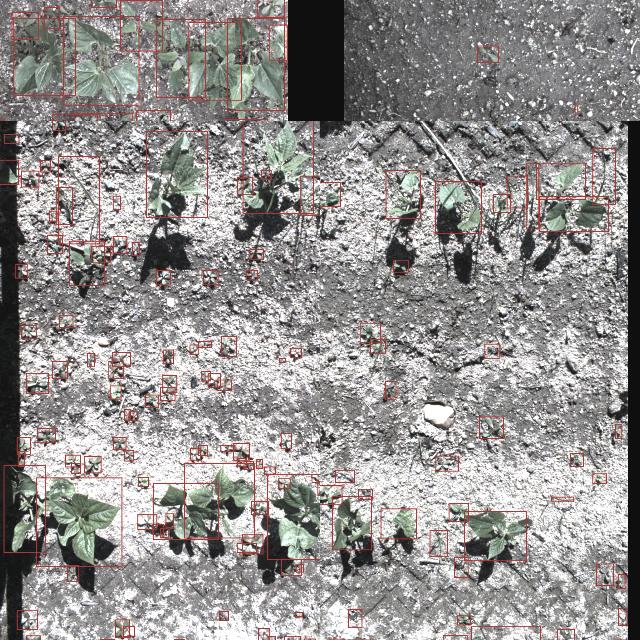crop: (36, 478, 122, 566), (63, 16, 139, 106), (242, 121, 313, 213), (146, 131, 208, 217), (185, 462, 255, 538), (228, 18, 284, 110), (13, 18, 75, 96), (268, 474, 320, 560), (188, 22, 242, 100), (153, 483, 219, 539), (3, 466, 45, 552), (464, 511, 526, 561), (434, 181, 482, 233), (540, 196, 608, 232), (332, 496, 371, 550), (536, 164, 586, 198), (386, 170, 420, 218), (380, 509, 416, 539), (268, 24, 288, 60), (320, 183, 339, 207), (0, 160, 17, 184), (52, 121, 65, 130)
weed: (156, 20, 206, 98), (59, 156, 100, 244), (120, 1, 162, 51), (68, 241, 104, 285), (592, 148, 616, 204), (471, 627, 540, 640), (299, 175, 320, 214), (526, 164, 538, 228), (12, 12, 38, 40), (507, 176, 527, 208), (56, 188, 72, 225), (479, 417, 503, 439), (430, 530, 448, 556), (257, 0, 284, 17), (26, 373, 48, 393), (242, 534, 264, 554), (17, 610, 37, 630), (360, 323, 380, 343), (320, 485, 341, 504), (596, 564, 614, 586), (136, 110, 170, 121), (282, 558, 302, 576), (449, 504, 469, 522), (44, 8, 60, 28), (478, 46, 498, 62), (90, 246, 110, 262), (436, 456, 458, 470), (494, 194, 511, 212), (20, 171, 38, 187), (112, 352, 130, 368), (37, 428, 55, 444), (233, 442, 249, 460), (138, 514, 156, 530), (222, 336, 236, 356), (454, 557, 468, 577), (108, 362, 124, 378), (85, 456, 101, 472), (48, 235, 62, 253), (115, 620, 129, 638), (113, 236, 127, 254), (348, 609, 362, 627), (238, 178, 252, 195), (16, 438, 30, 454), (156, 270, 170, 286), (52, 362, 66, 378), (163, 376, 177, 392), (484, 344, 500, 358), (370, 339, 386, 353), (384, 381, 396, 399), (336, 470, 354, 482), (204, 270, 218, 284), (570, 453, 584, 467), (64, 455, 80, 467), (20, 326, 36, 338), (252, 502, 268, 514), (557, 629, 574, 640), (618, 608, 628, 626), (91, 0, 116, 7), (59, 316, 73, 328), (146, 394, 158, 408), (112, 437, 126, 449), (160, 388, 174, 400), (208, 373, 220, 387), (67, 566, 79, 580), (394, 260, 408, 272), (216, 380, 232, 390), (237, 544, 257, 552), (16, 264, 27, 278), (258, 628, 270, 640), (4, 134, 18, 144), (250, 249, 264, 259), (163, 350, 173, 364), (281, 434, 291, 448), (593, 473, 607, 483), (358, 490, 372, 500), (110, 386, 120, 398), (40, 160, 50, 172), (246, 270, 258, 280), (190, 448, 200, 460), (278, 478, 290, 488), (152, 524, 164, 534), (122, 626, 134, 636), (443, 635, 467, 640), (86, 353, 94, 367), (166, 514, 174, 528), (618, 574, 626, 588), (124, 451, 134, 462), (290, 348, 302, 357), (132, 242, 140, 255), (261, 170, 271, 180), (198, 445, 208, 455), (264, 467, 276, 475), (458, 616, 470, 624), (139, 478, 149, 487), (552, 497, 574, 501), (18, 452, 24, 466), (114, 196, 120, 210), (198, 341, 212, 347), (221, 445, 235, 451), (616, 424, 622, 438), (49, 211, 57, 221), (190, 345, 198, 355), (202, 371, 210, 381), (72, 463, 80, 473), (244, 461, 254, 469), (160, 528, 168, 538), (220, 611, 228, 621), (311, 474, 320, 482), (129, 412, 137, 421), (238, 458, 246, 466), (296, 564, 304, 572), (124, 410, 130, 420), (26, 636, 40, 640), (257, 459, 263, 468), (285, 637, 301, 640), (267, 636, 275, 640), (574, 106, 578, 112), (296, 613, 302, 617), (279, 358, 285, 362)
